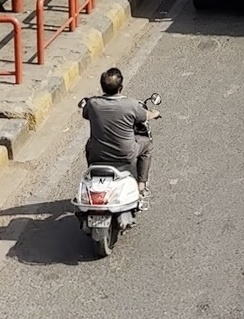BikeWithRider: (69, 66, 163, 257)
NoHelmet: (98, 66, 125, 96)
